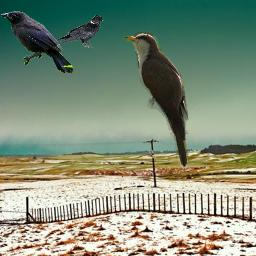Crow: (0, 11, 74, 73), (56, 15, 104, 49)
Cuckoo: (123, 32, 191, 170)
